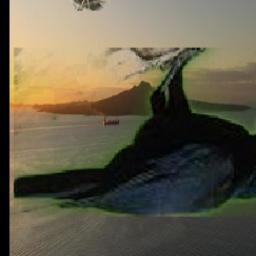Crow: (14, 48, 256, 217)
Cuckoo: (58, 0, 110, 11)
